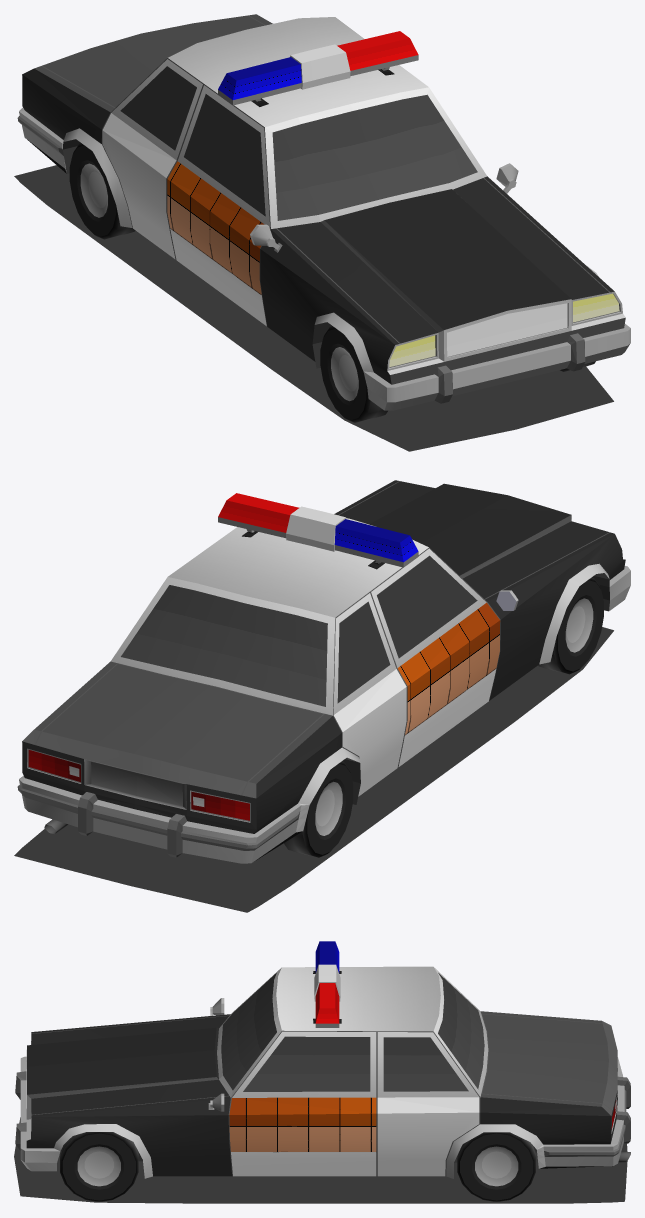
The model's file is police cruiser.FBX.
3 views of the same model, one above another, from view 1: azimuth 30°, elevation 25°; view 2: azimuth 150°, elevation 25°; view 3: azimuth 270°, elevation 25° (orthographic). The views are drawn at different scales.
Parts seen in each view (by area): view 1: body, shadow, FR, RR, siren blue, siren red; view 2: body, shadow, RR, FR, siren blue, back lights, siren red; view 3: body, shadow, FL, RL, siren red, siren blue.
Boxes of the visible parts, <box> form: body: <box>17,14,630,410</box>; shadow: <box>14,165,613,451</box>; FR: <box>320,326,387,422</box>; RR: <box>69,143,135,239</box>; siren blue: <box>218,57,301,99</box>; siren red: <box>337,31,418,70</box>; body: <box>17,480,630,863</box>; shadow: <box>14,627,613,912</box>; RR: <box>284,761,353,857</box>; FR: <box>538,577,603,674</box>; siren blue: <box>334,519,418,562</box>; back lights: <box>28,750,249,820</box>; siren red: <box>218,493,299,532</box>; body: <box>15,964,630,1178</box>; shadow: <box>14,1117,627,1203</box>; FL: <box>60,1132,138,1201</box>; RL: <box>457,1132,535,1201</box>; siren red: <box>315,983,339,1023</box>; siren blue: <box>315,941,339,973</box>.
Bounding box in the file's own units: 86.77 × 72.15 × 219.
